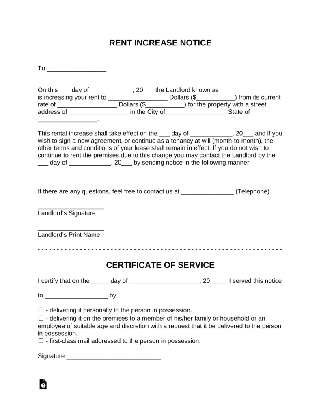checkbox: (38, 306, 45, 314), (37, 315, 45, 321), (38, 338, 45, 344)
textline: (35, 167, 286, 182), (66, 349, 163, 362), (129, 275, 199, 288), (36, 221, 107, 233), (37, 199, 106, 210), (46, 63, 108, 74), (220, 85, 283, 95), (43, 291, 109, 300), (58, 100, 117, 109), (37, 116, 100, 124), (68, 108, 130, 116), (181, 187, 235, 196), (166, 110, 228, 117), (108, 95, 168, 102), (189, 131, 234, 139), (90, 86, 133, 94), (68, 159, 111, 167), (197, 94, 234, 102), (146, 102, 184, 109), (210, 277, 229, 286), (90, 277, 110, 285), (57, 85, 72, 94), (36, 159, 49, 167), (142, 86, 154, 94), (158, 131, 170, 139), (122, 160, 132, 169), (243, 131, 254, 139)
